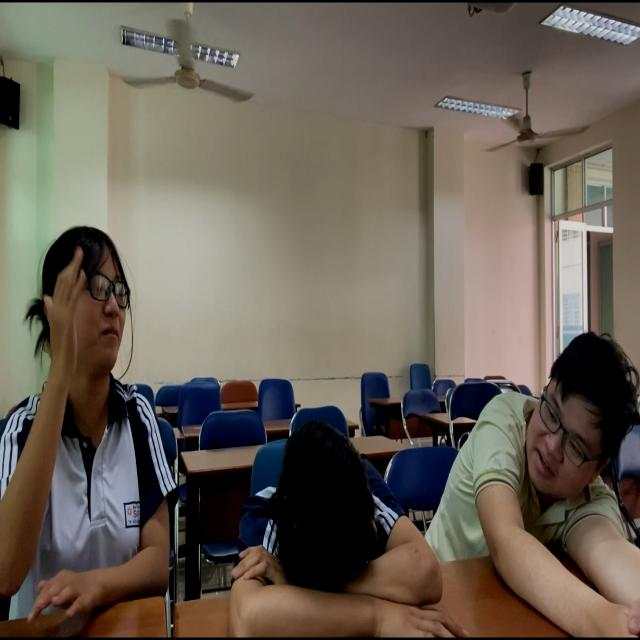raise_hand: (7, 221, 181, 640)
sleep: (433, 339, 640, 629), (203, 418, 436, 640)
